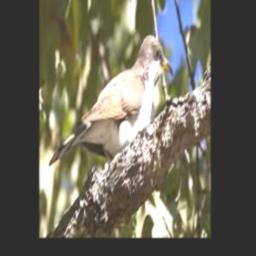Cuckoo: (49, 34, 174, 168)
